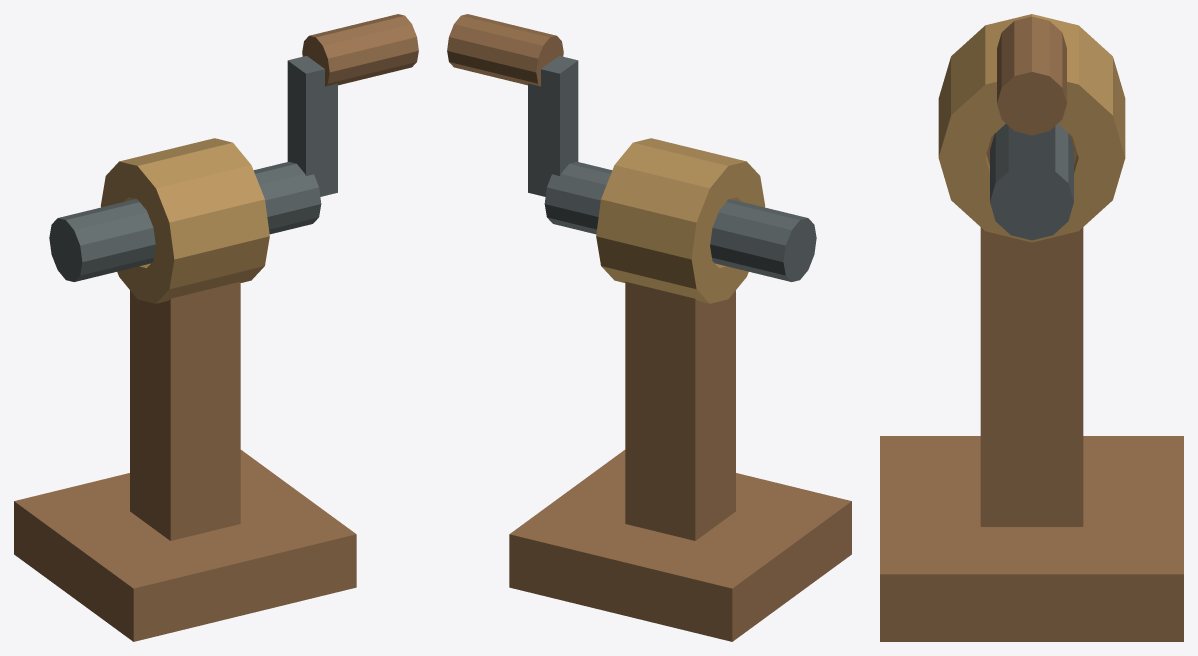
File: vf_hand_crank.glb
3 renders of one model, left to right at view 1: azimuth 30°, elevation 25°; view 2: azimuth 150°, elevation 25°; view 3: azimuth 270°, elevation 25°, orthographic. The views are drawn at different scales.
Parts seen in each view (by area): view 1: Static, Crank; view 2: Static, Crank; view 3: Static, Crank.
Boxes of the visible parts, left/top/right/bottom form: Static: left=14, top=138, right=356, bottom=641; Crank: left=49, top=14, right=418, bottom=281; Static: left=509, top=138, right=851, bottom=641; Crank: left=447, top=14, right=816, bottom=281; Static: left=880, top=14, right=1183, bottom=641; Crank: left=990, top=16, right=1073, bottom=240.
Bounding box in the file's own units: 1.06 × 1.51 × 0.65.
